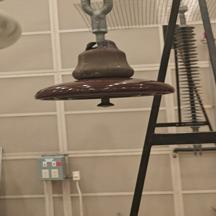insulator: (30, 35, 183, 120)
